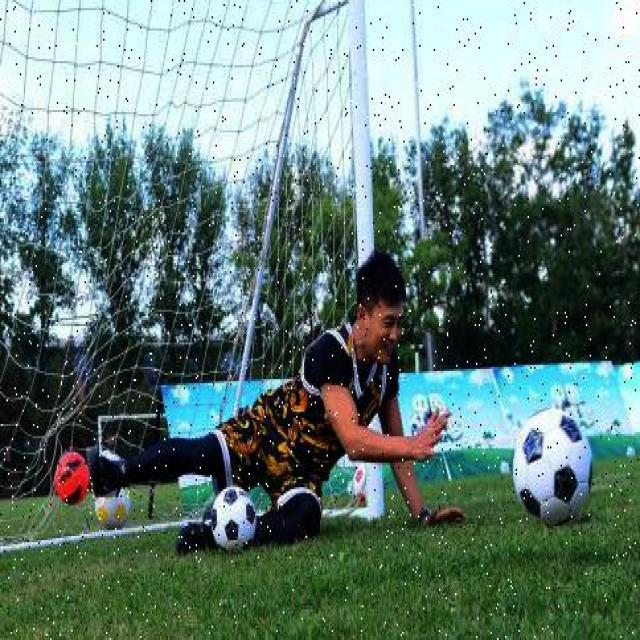fall: (82, 266, 438, 558)
